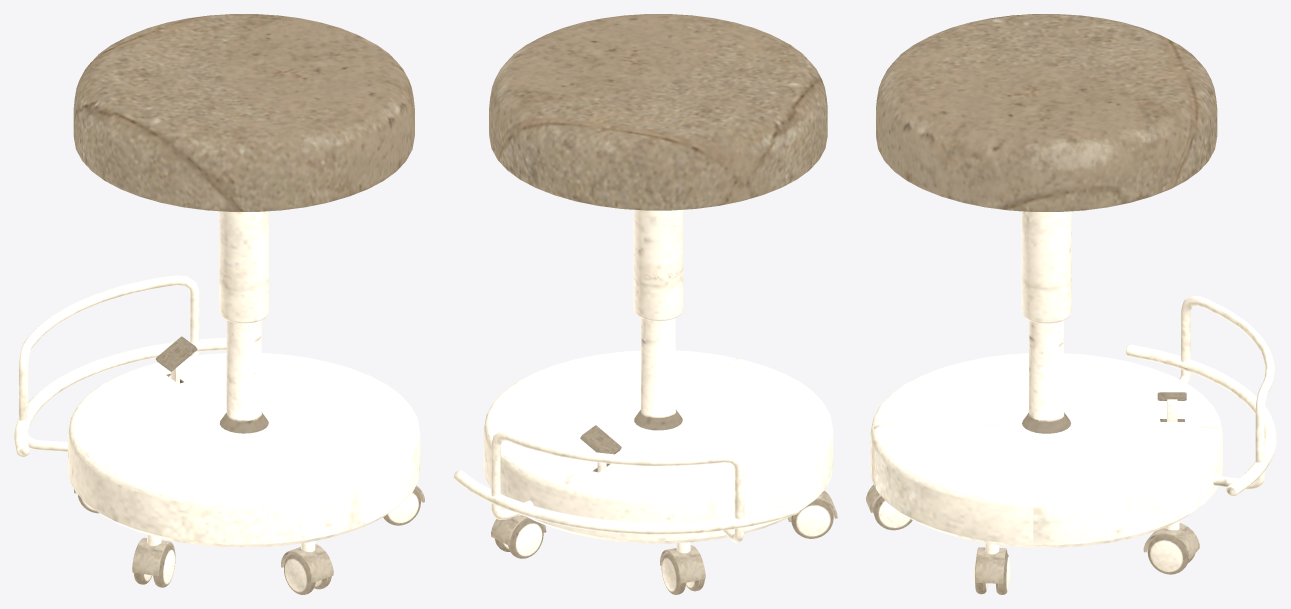
The model's file is SM_OPR_Chair_02.fbx.
3 views of the same model, side by side, from view 1: azimuth 30°, elevation 25°; view 2: azimuth 150°, elevation 25°; view 3: azimuth 270°, elevation 25° (orthographic).
Visible parts, largest first — view 1: SM_OPR_Chair_02_LOD0; view 2: SM_OPR_Chair_02_LOD0; view 3: SM_OPR_Chair_02_LOD0.
Part boxes in pixels (bbox=[...]): SM_OPR_Chair_02_LOD0: bbox=[14, 14, 424, 594]; SM_OPR_Chair_02_LOD0: bbox=[453, 14, 837, 594]; SM_OPR_Chair_02_LOD0: bbox=[866, 14, 1276, 594].
Bounding box in the file's own units: 54.76 × 57.77 × 70.82.
Materials: 1 (1 with a texture image).
